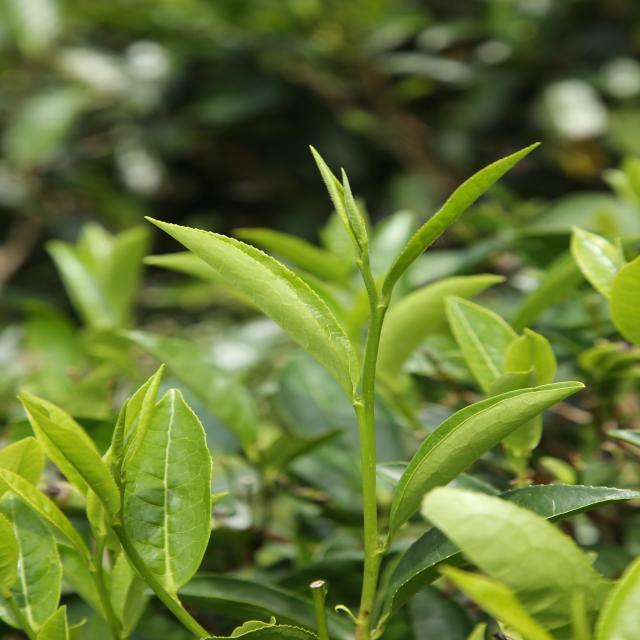Stem: (368, 308, 386, 327), (112, 522, 128, 539), (91, 568, 103, 581)
